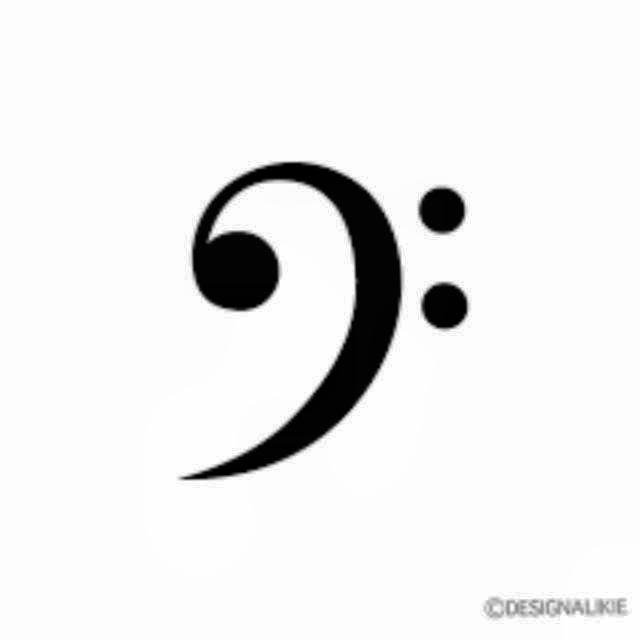Bass-clef: (148, 145, 514, 491)
